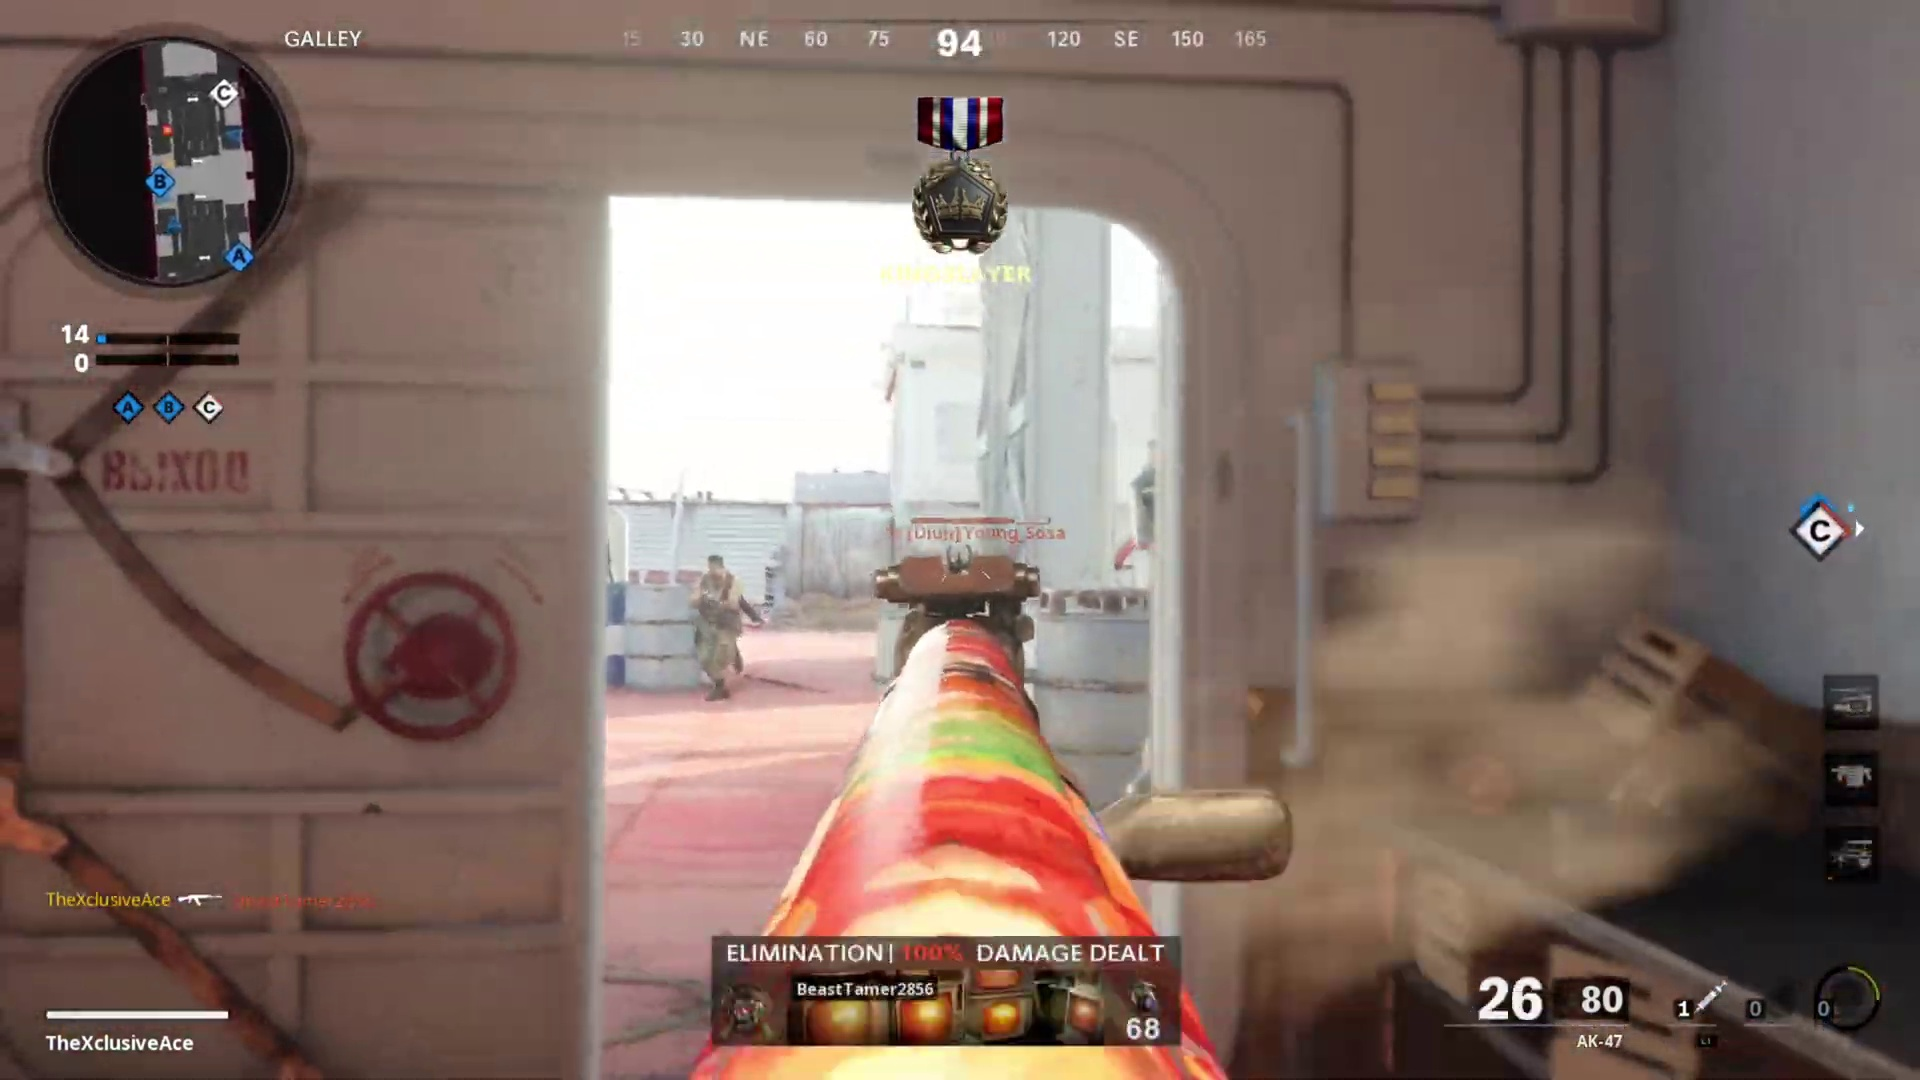head: (701, 552, 734, 589)
person: (688, 552, 754, 701)
